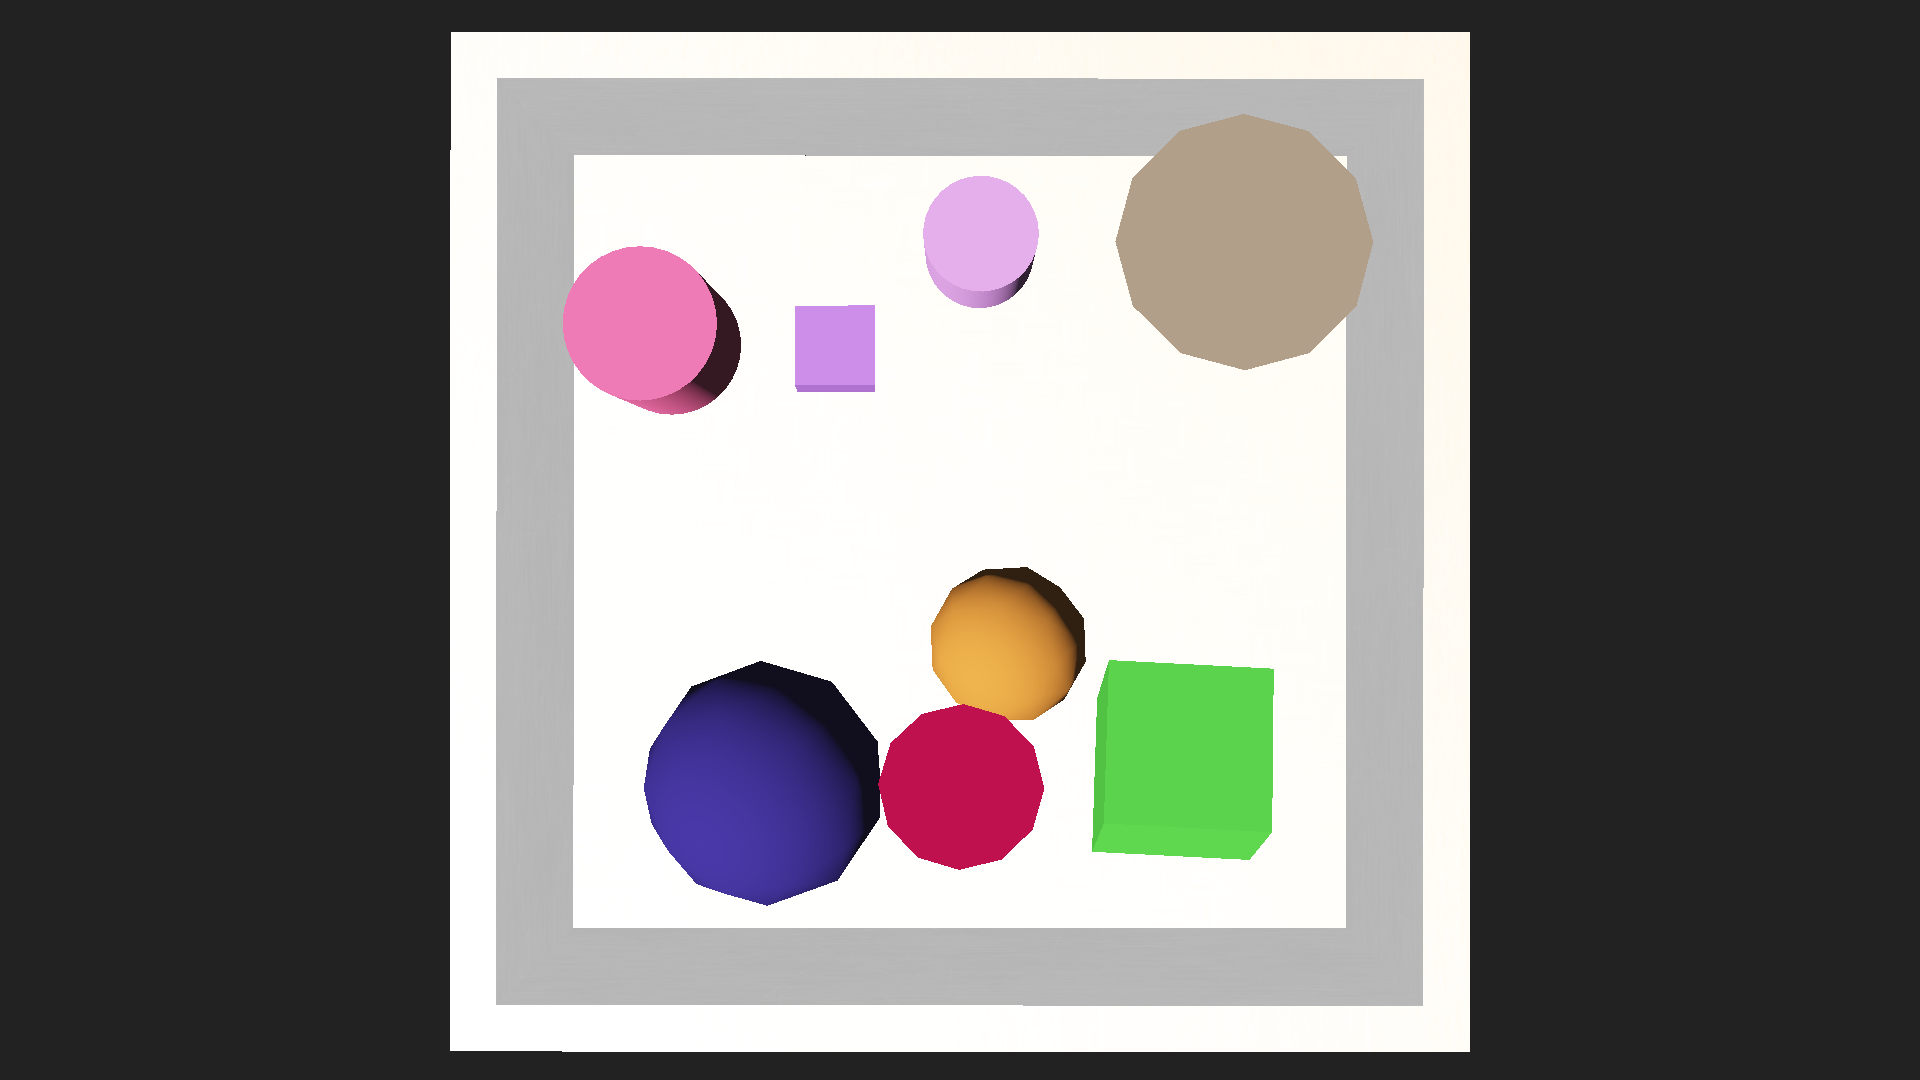3: (1088, 651, 1279, 881), (791, 305, 877, 392)
cone: (562, 245, 740, 414), (922, 175, 1038, 307)
cylinder: (1098, 111, 1374, 397), (882, 698, 1038, 902)
sphere: (641, 659, 885, 905), (927, 563, 1087, 723)
